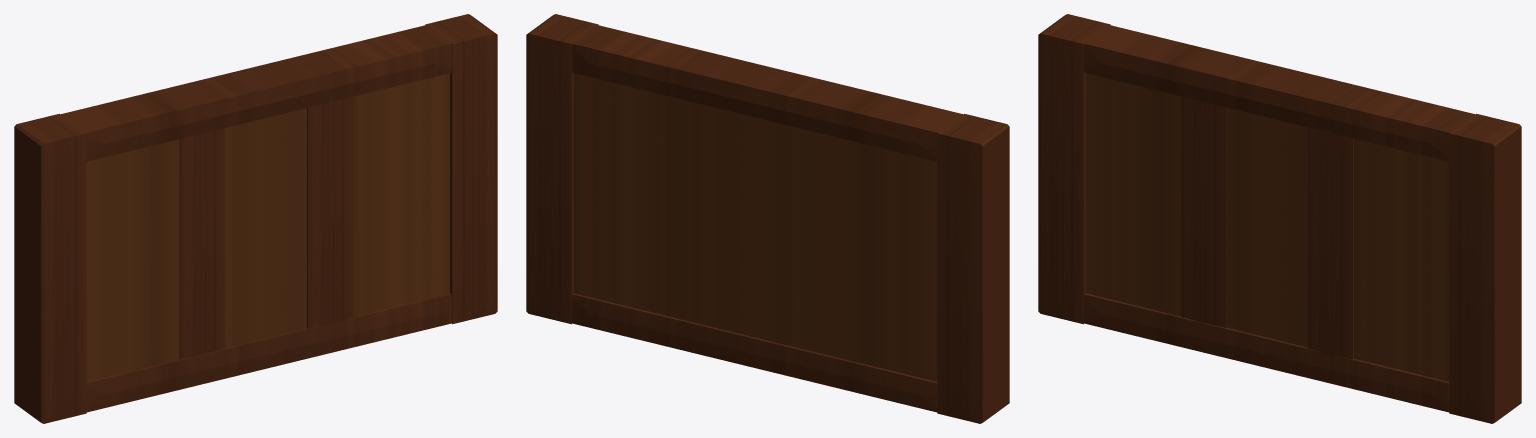
Rendered from Half_Wall_Var1_Wood.fbx.
3 views of the same model, side by side, from view 1: azimuth 30°, elevation 25°; view 2: azimuth 150°, elevation 25°; view 3: azimuth 330°, elevation 25° (orthographic).
Visible parts, largest first — view 1: Half_Wall_Var1_Wood; view 2: Half_Wall_Var1_Wood; view 3: Half_Wall_Var1_Wood.
Part boxes in pixels (bbox=[...]): Half_Wall_Var1_Wood: bbox=[14, 14, 497, 423]; Half_Wall_Var1_Wood: bbox=[526, 14, 1009, 423]; Half_Wall_Var1_Wood: bbox=[1038, 14, 1521, 423].
Bounding box in the file's own units: 212 × 124 × 23.4.
